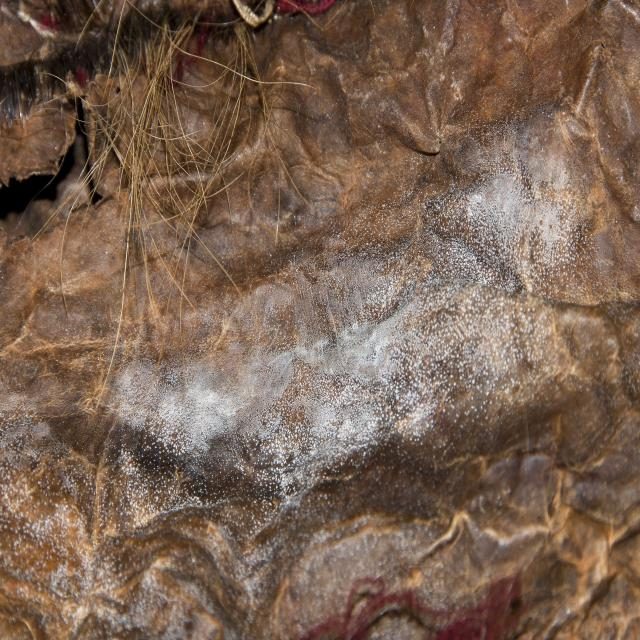Bacterial Injury: (120, 308, 378, 509)
